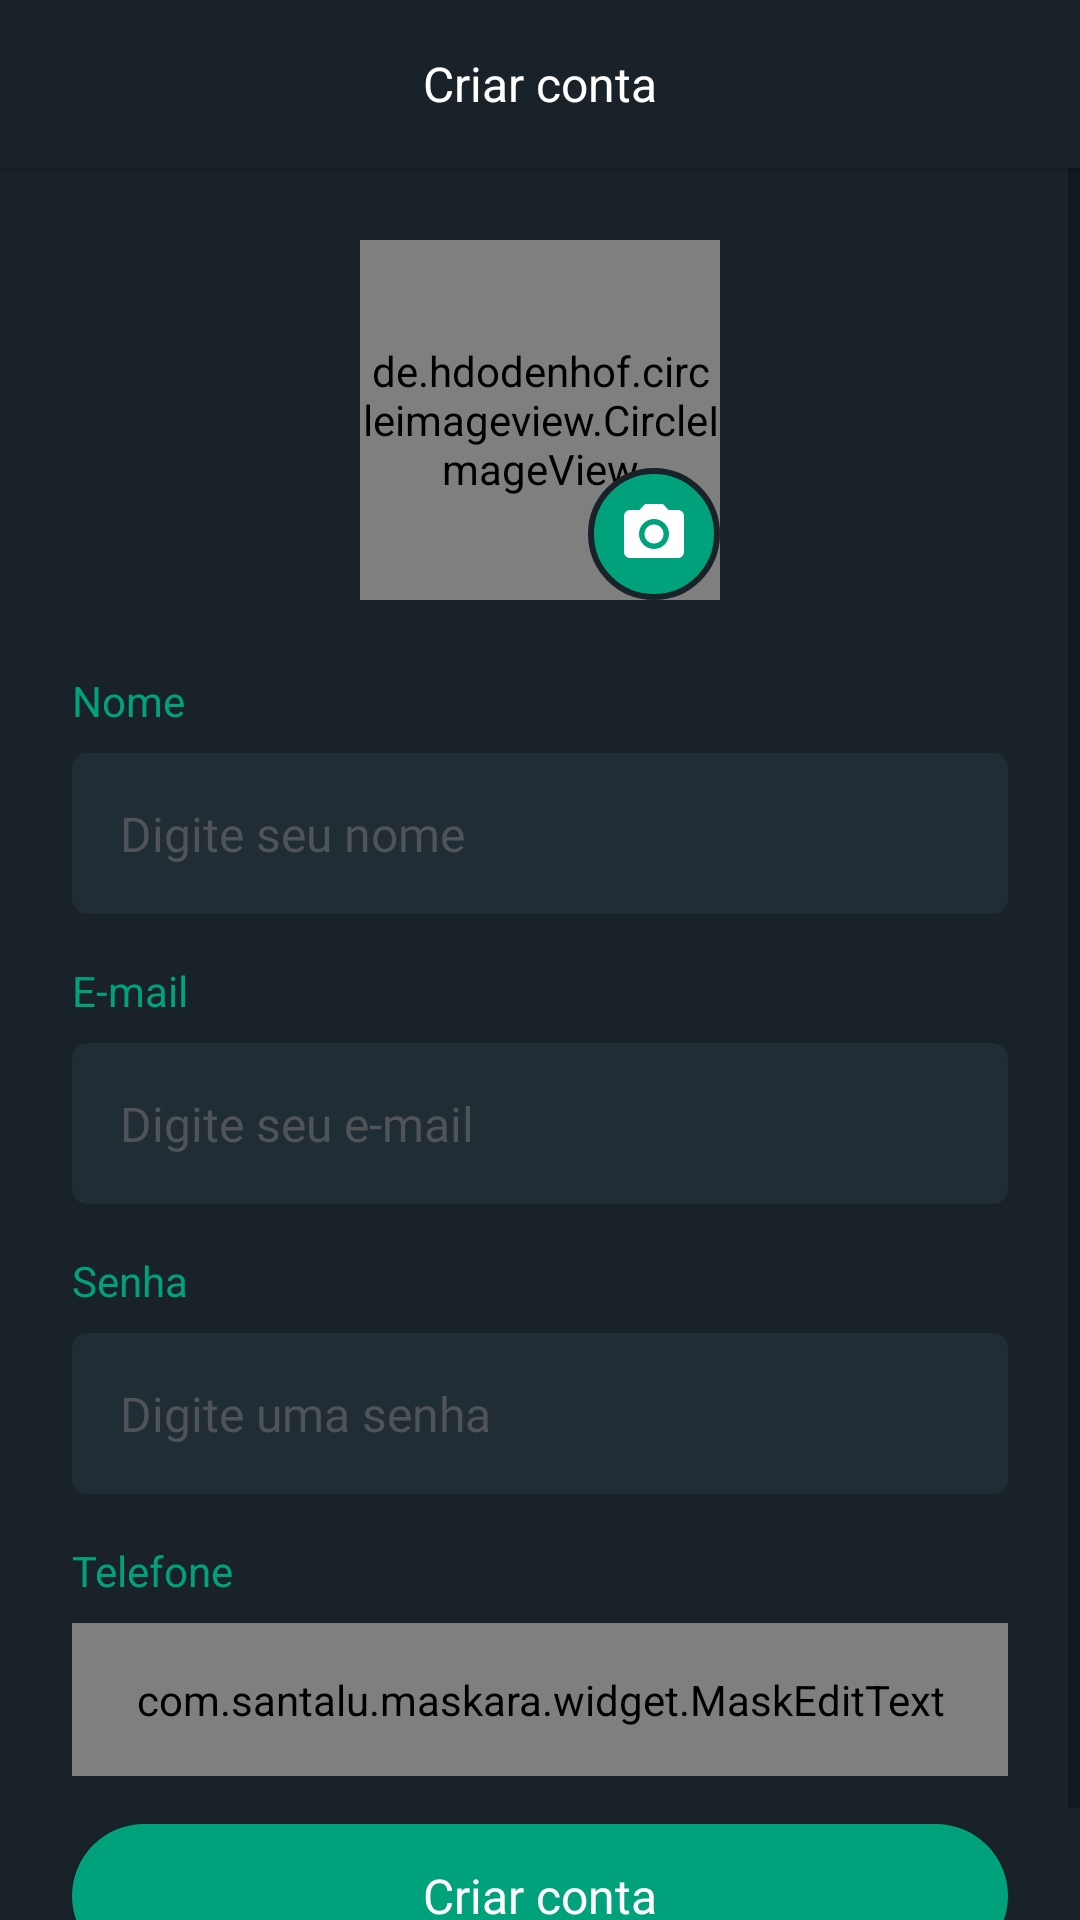

Named icons in this screenshot (1080w x 1920h) and their centers, [x,y]:
photo: [654,534]
